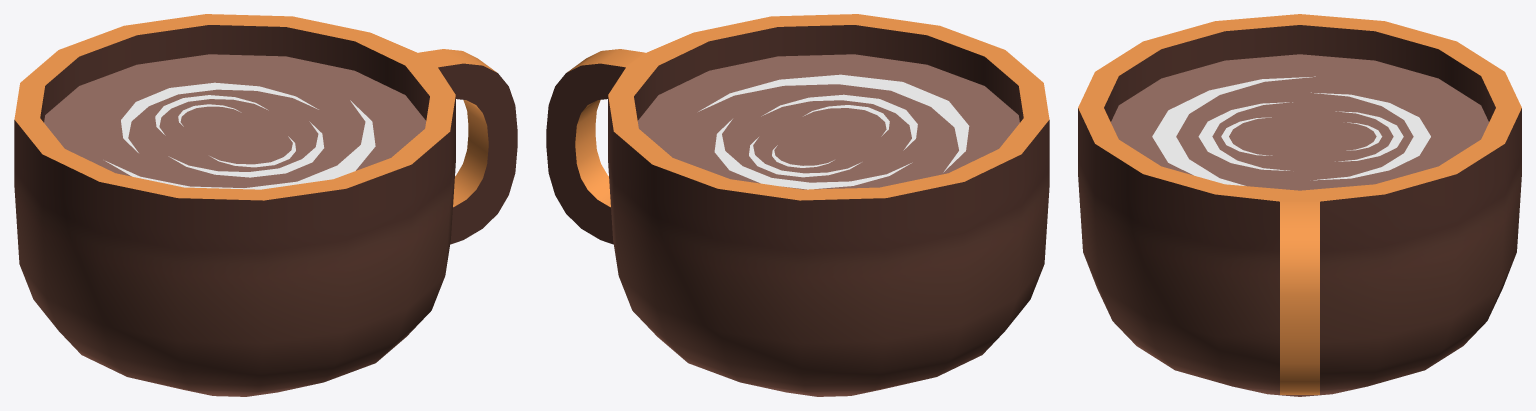
The model's file is coffee in cup.fbx.
3 renders of one model, left to right at view 1: azimuth 30°, elevation 25°; view 2: azimuth 150°, elevation 25°; view 3: azimuth 270°, elevation 25°, orthographic.
Parts seen in each view (by area): view 1: coffee in cup; view 2: coffee in cup; view 3: coffee in cup.
Boxes of the visible parts, x1=… form: coffee in cup: x1=14, y1=14, x2=517, y2=396; coffee in cup: x1=546, y1=14, x2=1049, y2=396; coffee in cup: x1=1078, y1=14, x2=1521, y2=396.
Bounding box in the file's own units: 1.32 × 0.6866 × 1.09.
